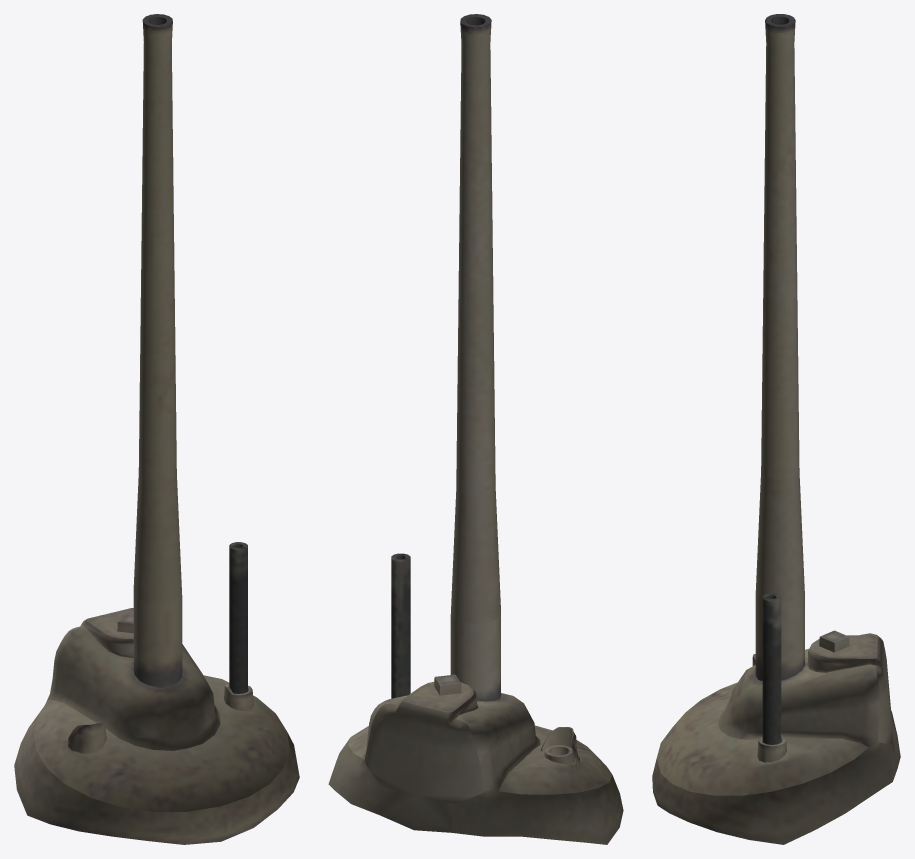
The model's file is Gun_06.glb.
3 renders of one model, left to right at view 1: azimuth 30°, elevation 25°; view 2: azimuth 150°, elevation 25°; view 3: azimuth 270°, elevation 25°, orthographic. The views are drawn at different scales.
Visible parts, largest first — view 1: set_0_group_0; view 2: set_0_group_0; view 3: set_0_group_0.
Boxes of the visible parts, <box> form: set_0_group_0: <box>14,14,299,844</box>; set_0_group_0: <box>328,14,623,844</box>; set_0_group_0: <box>652,14,900,844</box>.
Size of the model in its own units: 0.5119 by 1.48 by 0.4311.
Materials: 1 (1 with a texture image).
